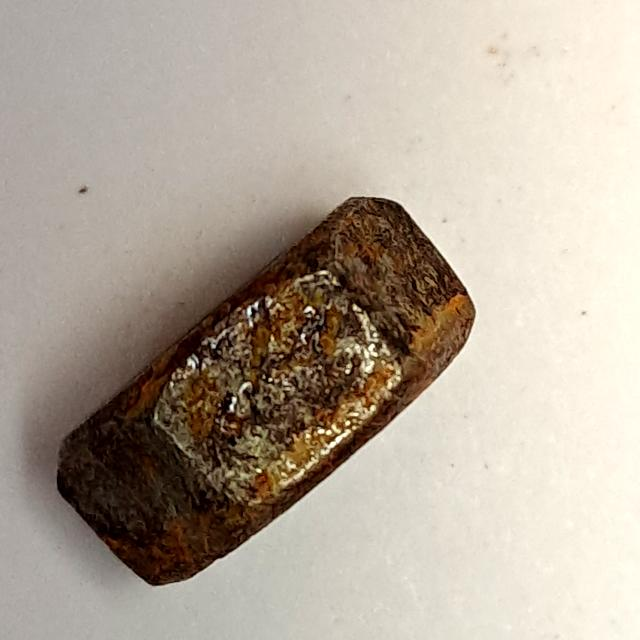Side_Rust: (42, 186, 494, 606)
